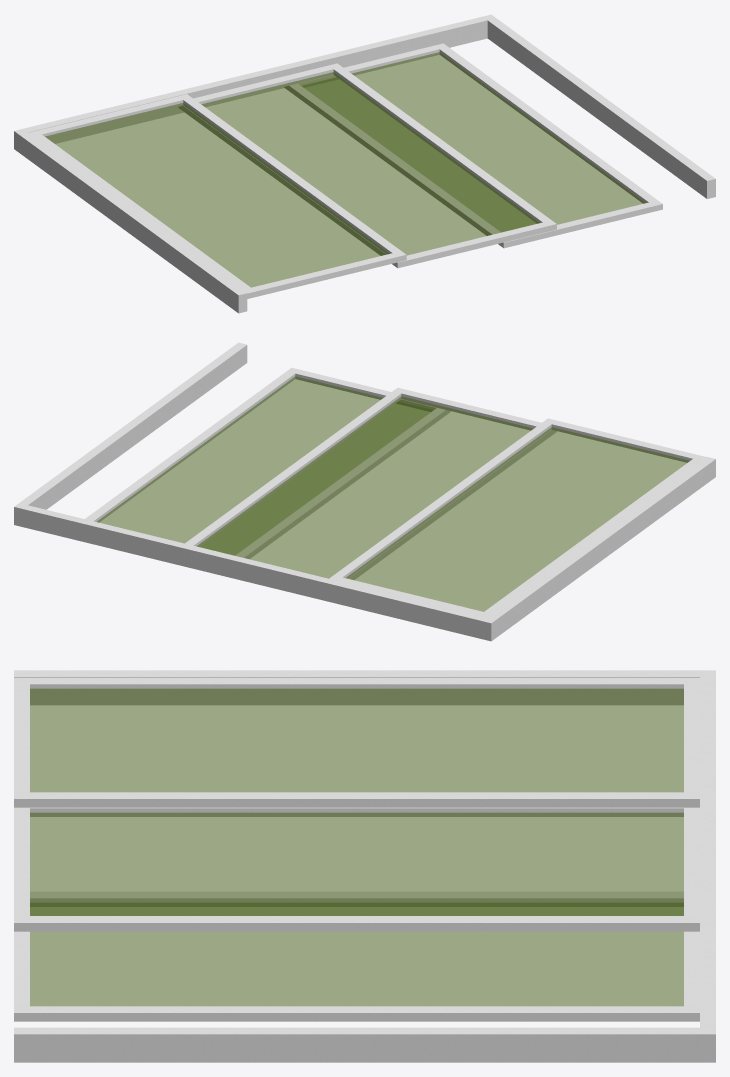
File: 3-Leaf+Sliding+Door.obj
The picture shows the model from 3 angles, top to bottom: view 1: azimuth 30°, elevation 25°; view 2: azimuth 150°, elevation 25°; view 3: azimuth 270°, elevation 25°; orthographic projection. The views are drawn at different scales.
Parts seen in each view (by area): view 1: Mesh2 Sliding_Panel_4_2 Model, Mesh1 Sliding_Panel_4_1 Model, Mesh3 Sliding_Panel_4_3 Model, Mesh4 Jamb_4_1 Model; view 2: Mesh2 Sliding_Panel_4_2 Model, Mesh1 Sliding_Panel_4_1 Model, Mesh3 Sliding_Panel_4_3 Model, Mesh4 Jamb_4_1 Model; view 3: Mesh2 Sliding_Panel_4_2 Model, Mesh1 Sliding_Panel_4_1 Model, Mesh3 Sliding_Panel_4_3 Model, Mesh4 Jamb_4_1 Model.
Part boxes in pixels (x1,y1,x2,y2): Mesh2 Sliding_Panel_4_2 Model: [28, 94, 406, 298]; Mesh1 Sliding_Panel_4_1 Model: [178, 63, 556, 268]; Mesh3 Sliding_Panel_4_3 Model: [284, 43, 662, 248]; Mesh4 Jamb_4_1 Model: [14, 14, 715, 313]; Mesh2 Sliding_Panel_4_2 Model: [329, 418, 706, 617]; Mesh1 Sliding_Panel_4_1 Model: [185, 387, 556, 579]; Mesh3 Sliding_Panel_4_3 Model: [85, 367, 450, 558]; Mesh4 Jamb_4_1 Model: [14, 342, 715, 641]; Mesh2 Sliding_Panel_4_2 Model: [14, 677, 699, 807]; Mesh1 Sliding_Panel_4_1 Model: [14, 807, 699, 931]; Mesh3 Sliding_Panel_4_3 Model: [14, 891, 699, 1021]; Mesh4 Jamb_4_1 Model: [14, 670, 715, 1062].
Bounding box in the file's own units: 106 × 3.86 × 86.61.
2 materials, 1 textured.
